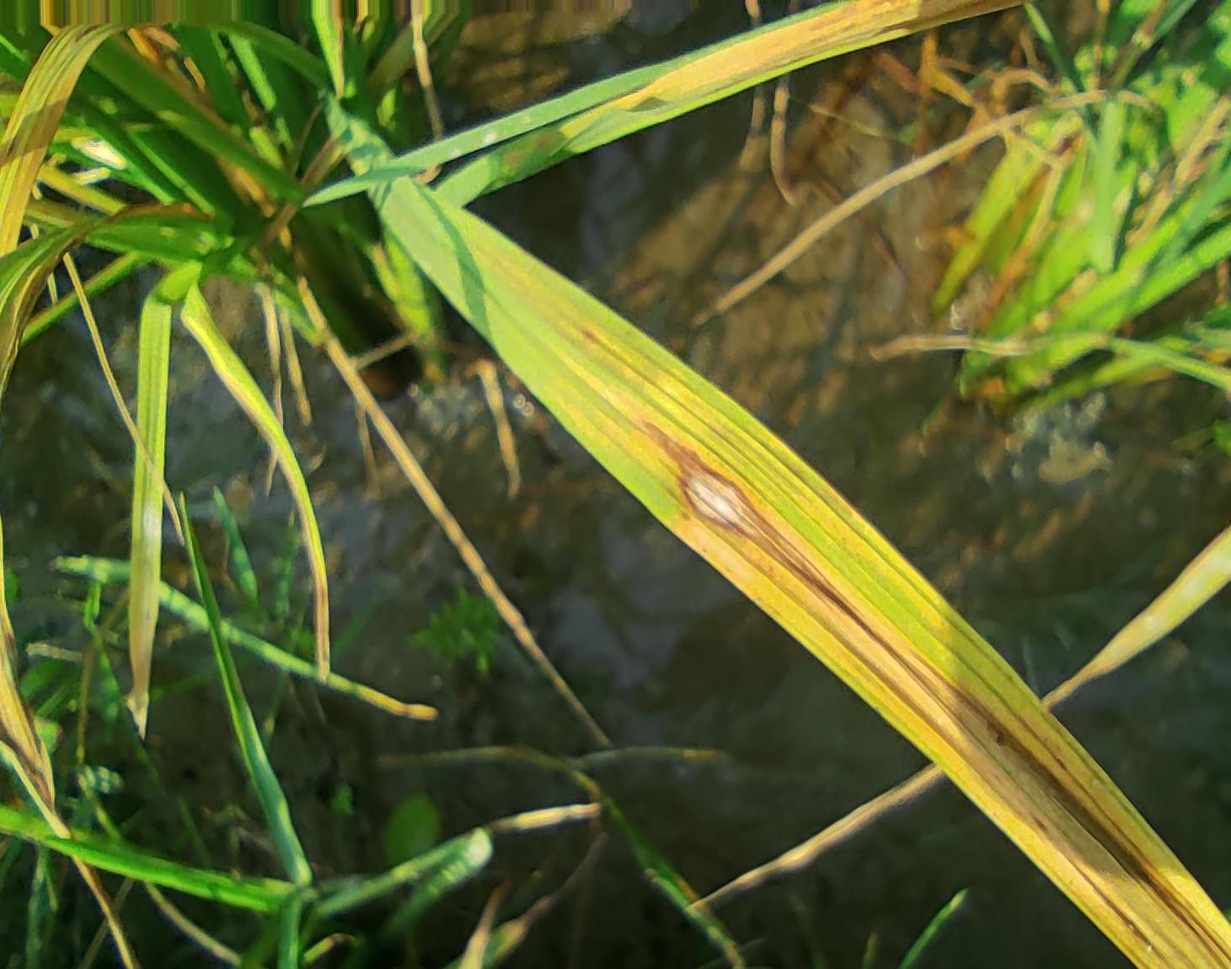LEAF: (373, 179, 1230, 968)
LEAF BLAST: (641, 421, 1013, 778)
